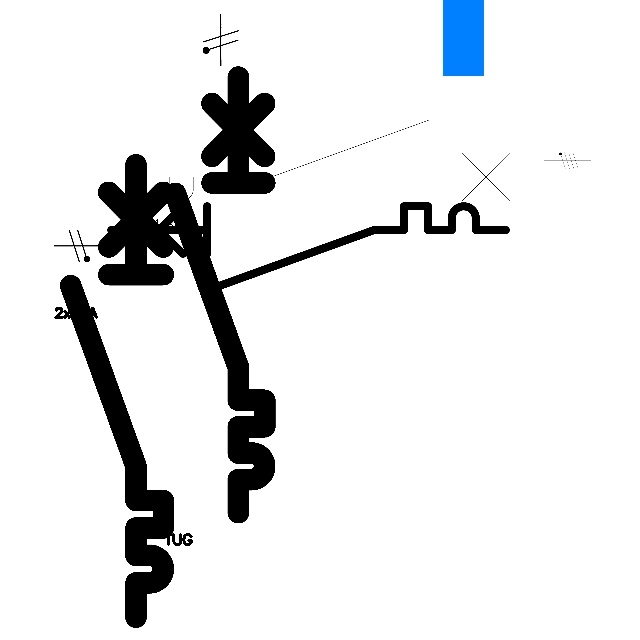interruptor_termomagnetico: (59, 153, 175, 629), (164, 65, 276, 523), (100, 196, 515, 297), (129, 110, 543, 211)
